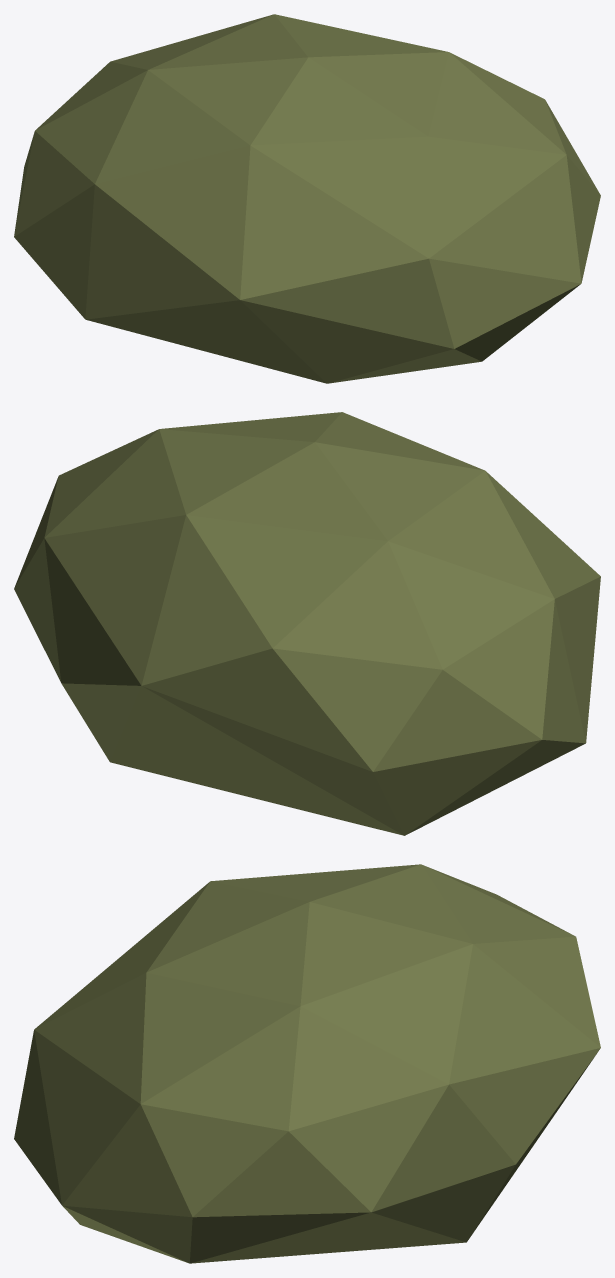
Rendered from Bush_01.fbx.
3 renders of one model, top to bottom at view 1: azimuth 30°, elevation 25°; view 2: azimuth 150°, elevation 25°; view 3: azimuth 270°, elevation 25°, orthographic. The views are drawn at different scales.
Visible parts, largest first — view 1: Bush_01a; view 2: Bush_01a; view 3: Bush_01a.
Boxes of the visible parts, box(x1,y1,x2,y2) form: Bush_01a: box(14, 14, 600, 383); Bush_01a: box(14, 412, 600, 835); Bush_01a: box(14, 864, 600, 1263).
Bounding box in the file's own units: 245 × 125 × 226.
